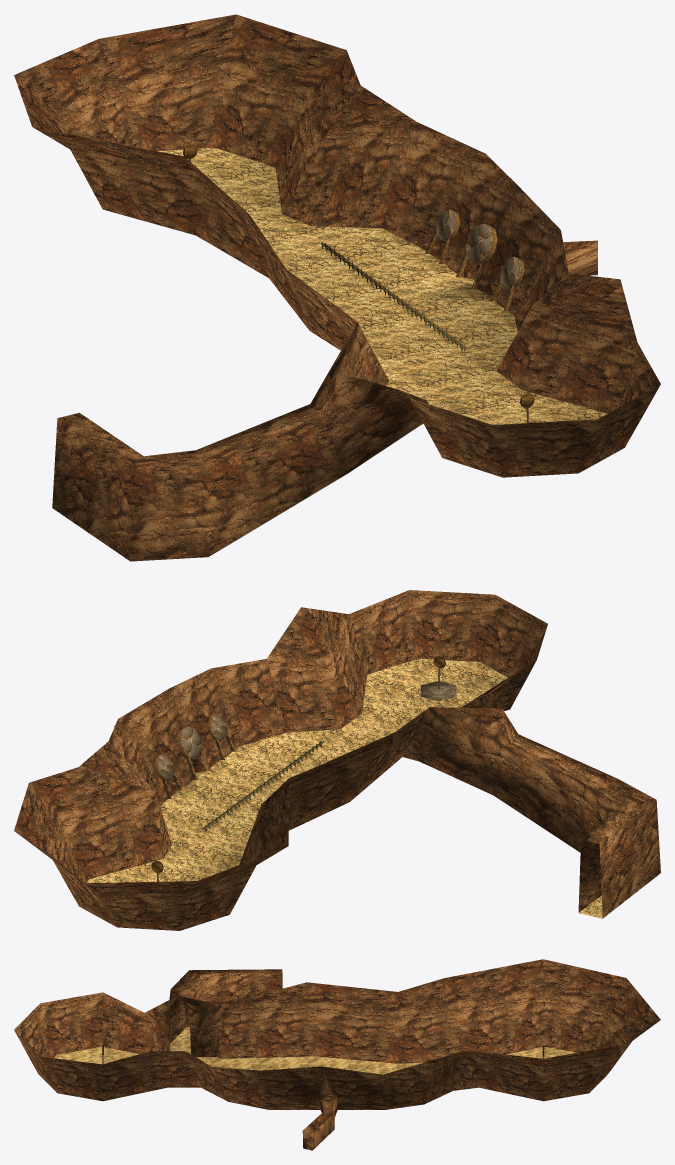
File: MiniGame_HorsebackArchery.obj
The picture shows the model from 3 angles, top to bottom: view 1: azimuth 30°, elevation 25°; view 2: azimuth 150°, elevation 25°; view 3: azimuth 270°, elevation 25°; orthographic projection. The views are drawn at different scales.
Parts seen in each view (by area): view 1: #Room0#CameraE#_horseback_archery_None, #Room0#CameraE#_horseback_archery_sand#SFX_1, #Room0#CameraE#_horseback_archery_ext_rock_wall_dir., #Room0#CameraE#_horseback_archery_wood2#SFX_A#MirrorX#MirrorY, #Room0#CameraE#_horseback_archery_wood_pole_shade_sides#SFX_A, #Room0#CameraE#_horseback_archery_raillings.; view 2: #Room0#CameraE#_horseback_archery_None, #Room0#CameraE#_horseback_archery_sand#SFX_1, #Room0#CameraE#_horseback_archery_ext_rock_wall_dir., #Room0#CameraE#_horseback_archery_wood2#SFX_A#MirrorX#MirrorY, #Room0#CameraE#_horseback_archery_wood_pole_shade_sides#SFX_A, #Room0#CameraE#_horseback_archery_raillings., #Room0#CameraE#_horseback_archery_treskin.; view 3: #Room0#CameraE#_horseback_archery_None, #Room0#CameraE#_horseback_archery_ext_rock_wall_dir., #Room0#CameraE#_horseback_archery_sand#SFX_1, #Room0#CameraE#_Exit#Exit00_sand#SFX_1.
Boxes of the visible parts, x1,y1,x2,y2 form: #Room0#CameraE#_horseback_archery_None: (52,64,660,561); #Room0#CameraE#_horseback_archery_sand#SFX_1: (156,147,606,424); #Room0#CameraE#_horseback_archery_ext_rock_wall_dir.: (14,14,416,317); #Room0#CameraE#_horseback_archery_wood2#SFX_A#MirrorX#MirrorY: (436,209,520,287); #Room0#CameraE#_horseback_archery_wood_pole_shade_sides#SFX_A: (425,210,524,406); #Room0#CameraE#_horseback_archery_raillings.: (321,242,467,350); #Room0#CameraE#_horseback_archery_None: (49,590,660,930); #Room0#CameraE#_horseback_archery_sand#SFX_1: (86,658,508,883); #Room0#CameraE#_horseback_archery_ext_rock_wall_dir.: (14,711,423,896); #Room0#CameraE#_horseback_archery_wood2#SFX_A#MirrorX#MirrorY: (157,715,227,779); #Room0#CameraE#_horseback_archery_wood_pole_shade_sides#SFX_A: (154,660,445,798); #Room0#CameraE#_horseback_archery_raillings.: (203,741,324,831); #Room0#CameraE#_horseback_archery_treskin.: (420,681,456,700); #Room0#CameraE#_horseback_archery_None: (14,969,631,1150); #Room0#CameraE#_horseback_archery_ext_rock_wall_dir.: (222,959,660,1067); #Room0#CameraE#_horseback_archery_sand#SFX_1: (54,1047,577,1074); #Room0#CameraE#_Exit#Exit00_sand#SFX_1: (170,1027,190,1053).
Bounding box in the file's own units: 5266 × 1754 × 7996.
Materials: 9 (9 with a texture image).
